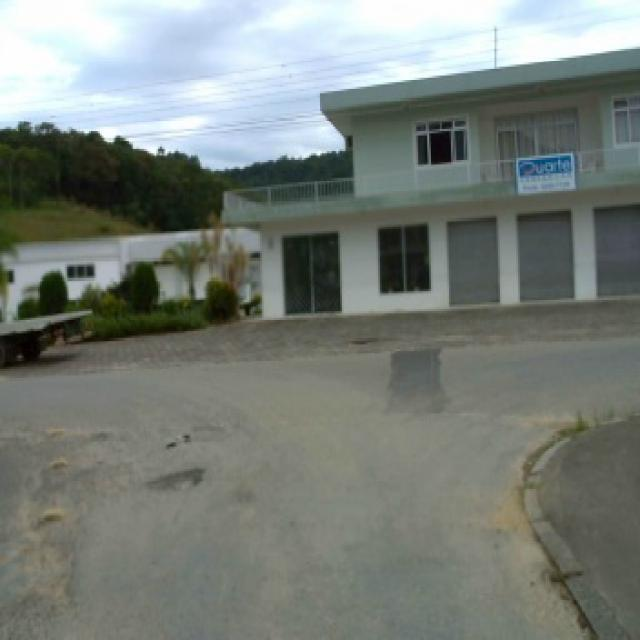Poth-hole: (18, 533, 78, 609), (144, 464, 204, 492), (162, 429, 193, 449), (40, 504, 66, 518), (48, 456, 68, 466)
